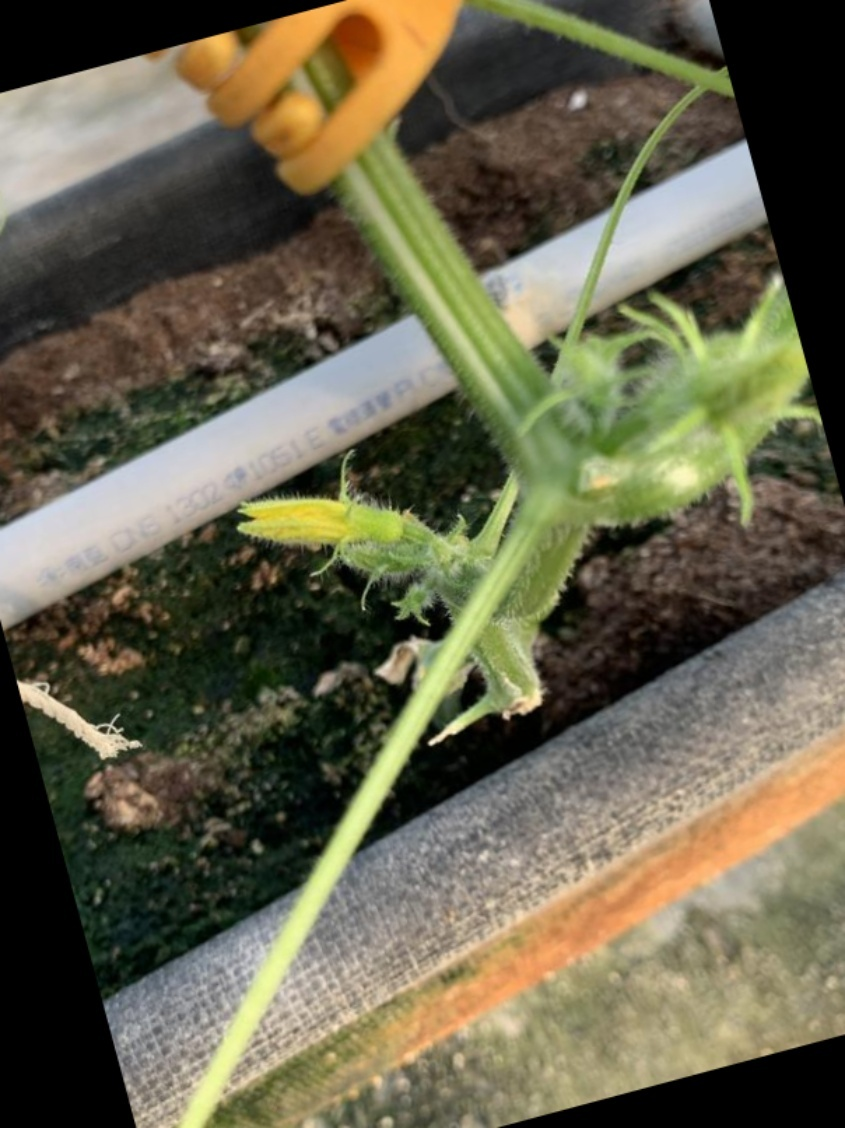bud: (237, 492, 430, 577)
